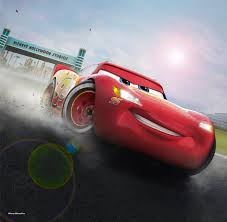mcqueen: (41, 60, 216, 176)
